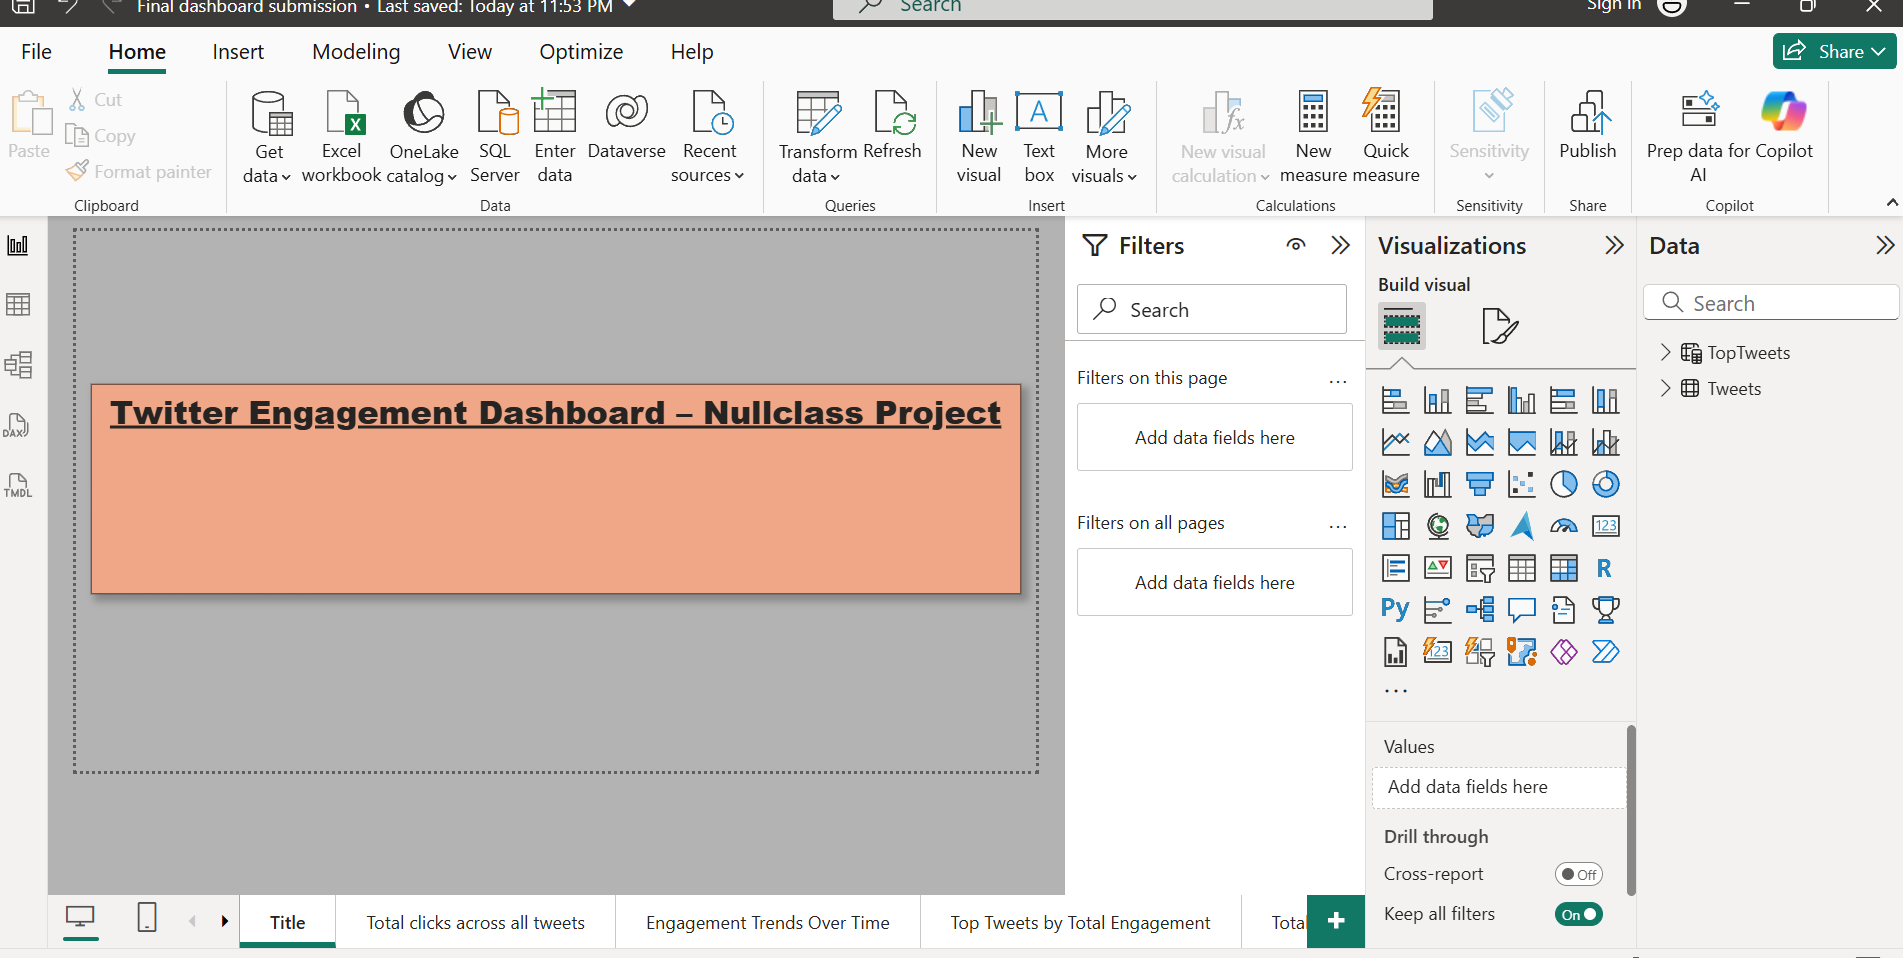

Layout of this report page (visuals, bound fields, positions):
{"tool":"powerbi","page":{"name":"Title","canvas":[1280,720],"ordinal":0},"visuals":[{"type":"textbox","box":[20.8,204.1,1239.7,279.7],"z":0}]}

Visuals, with their boxes on the page's 1280x720 design canvas (x1, y1, x2, y2). These are canvas units, not pixel positions in the 1903x958 screenshot, which may show the page scaled, cropped or inside an application window:
textbox: [21, 204, 1260, 484]
